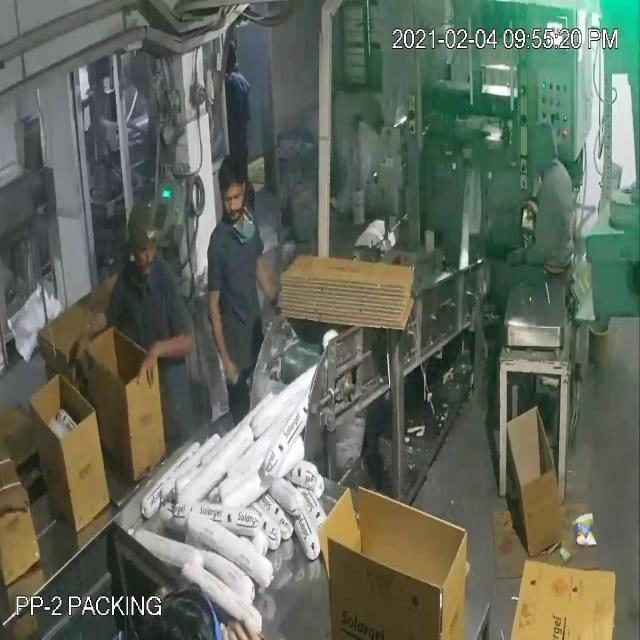No_Gloves: (40, 56, 269, 357)
